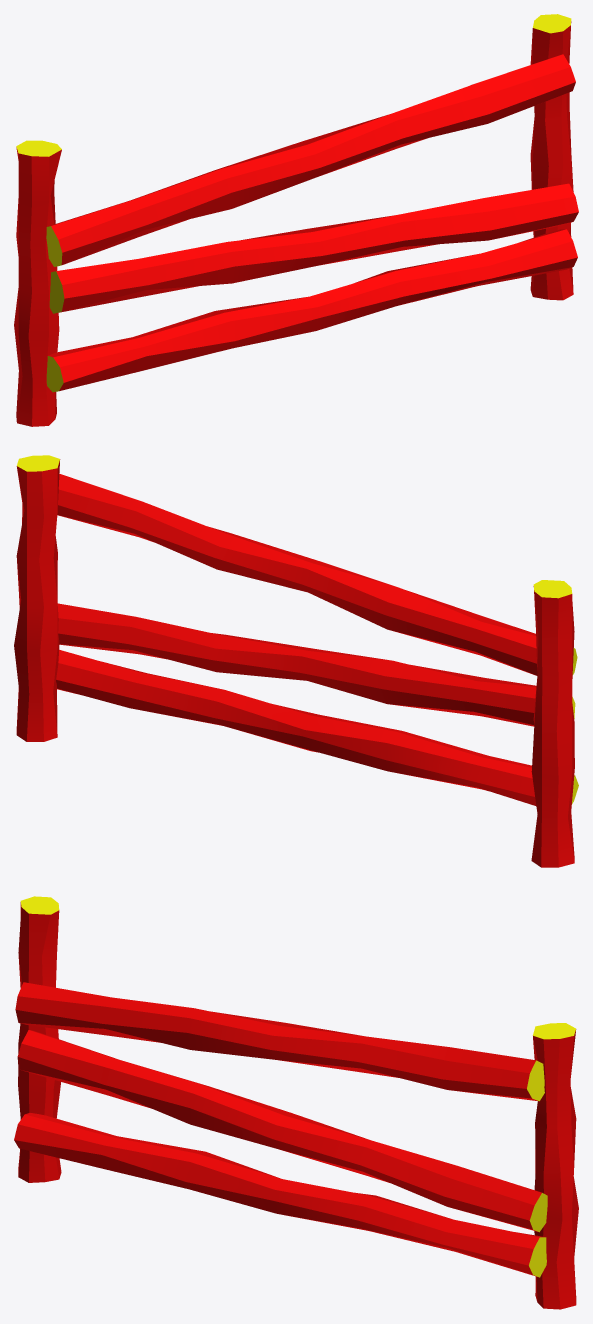
File: Abbie - Fence2.fbx
The picture shows the model from 3 angles, top to bottom: view 1: azimuth 30°, elevation 25°; view 2: azimuth 150°, elevation 25°; view 3: azimuth 330°, elevation 25°; orthographic projection.
Visible parts, largest first — view 1: fence2; view 2: fence2; view 3: fence2.
Boxes of the visible parts, bbox=[...] form: fence2: bbox=[14, 14, 578, 426]; fence2: bbox=[14, 455, 578, 867]; fence2: bbox=[14, 896, 578, 1309].
Bounding box in the file's own units: 2.17 × 1 × 0.2579.
